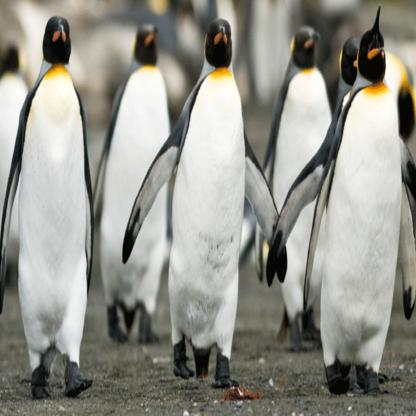Penguin: (119, 11, 293, 393), (274, 2, 414, 396), (1, 10, 103, 410), (256, 19, 348, 370), (306, 28, 396, 368), (92, 13, 183, 345)
